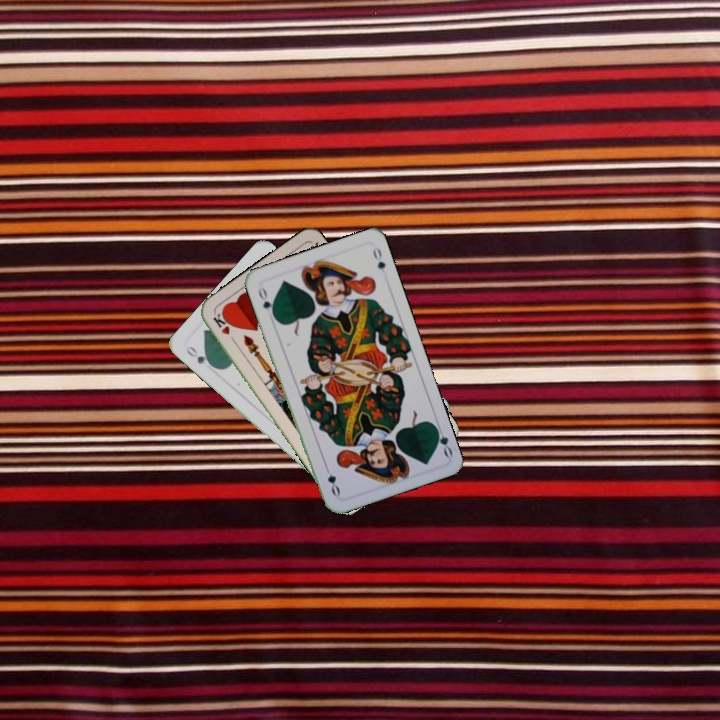GO: (430, 420, 455, 460), (182, 342, 217, 370), (254, 283, 277, 320)
HK: (209, 309, 239, 346)
